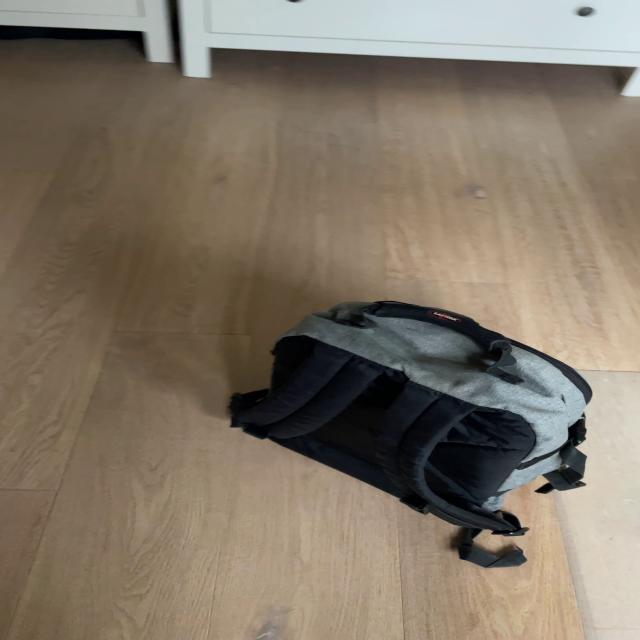backpack: (214, 284, 608, 534)
